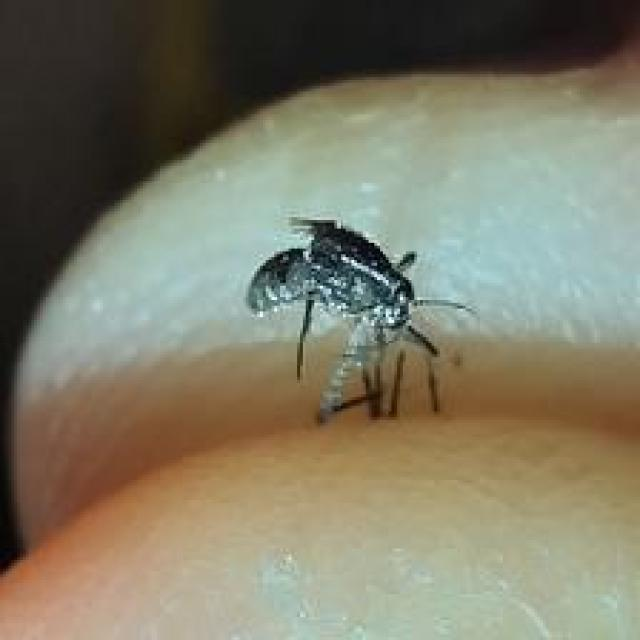Aedes albopictus: (246, 214, 477, 426)
